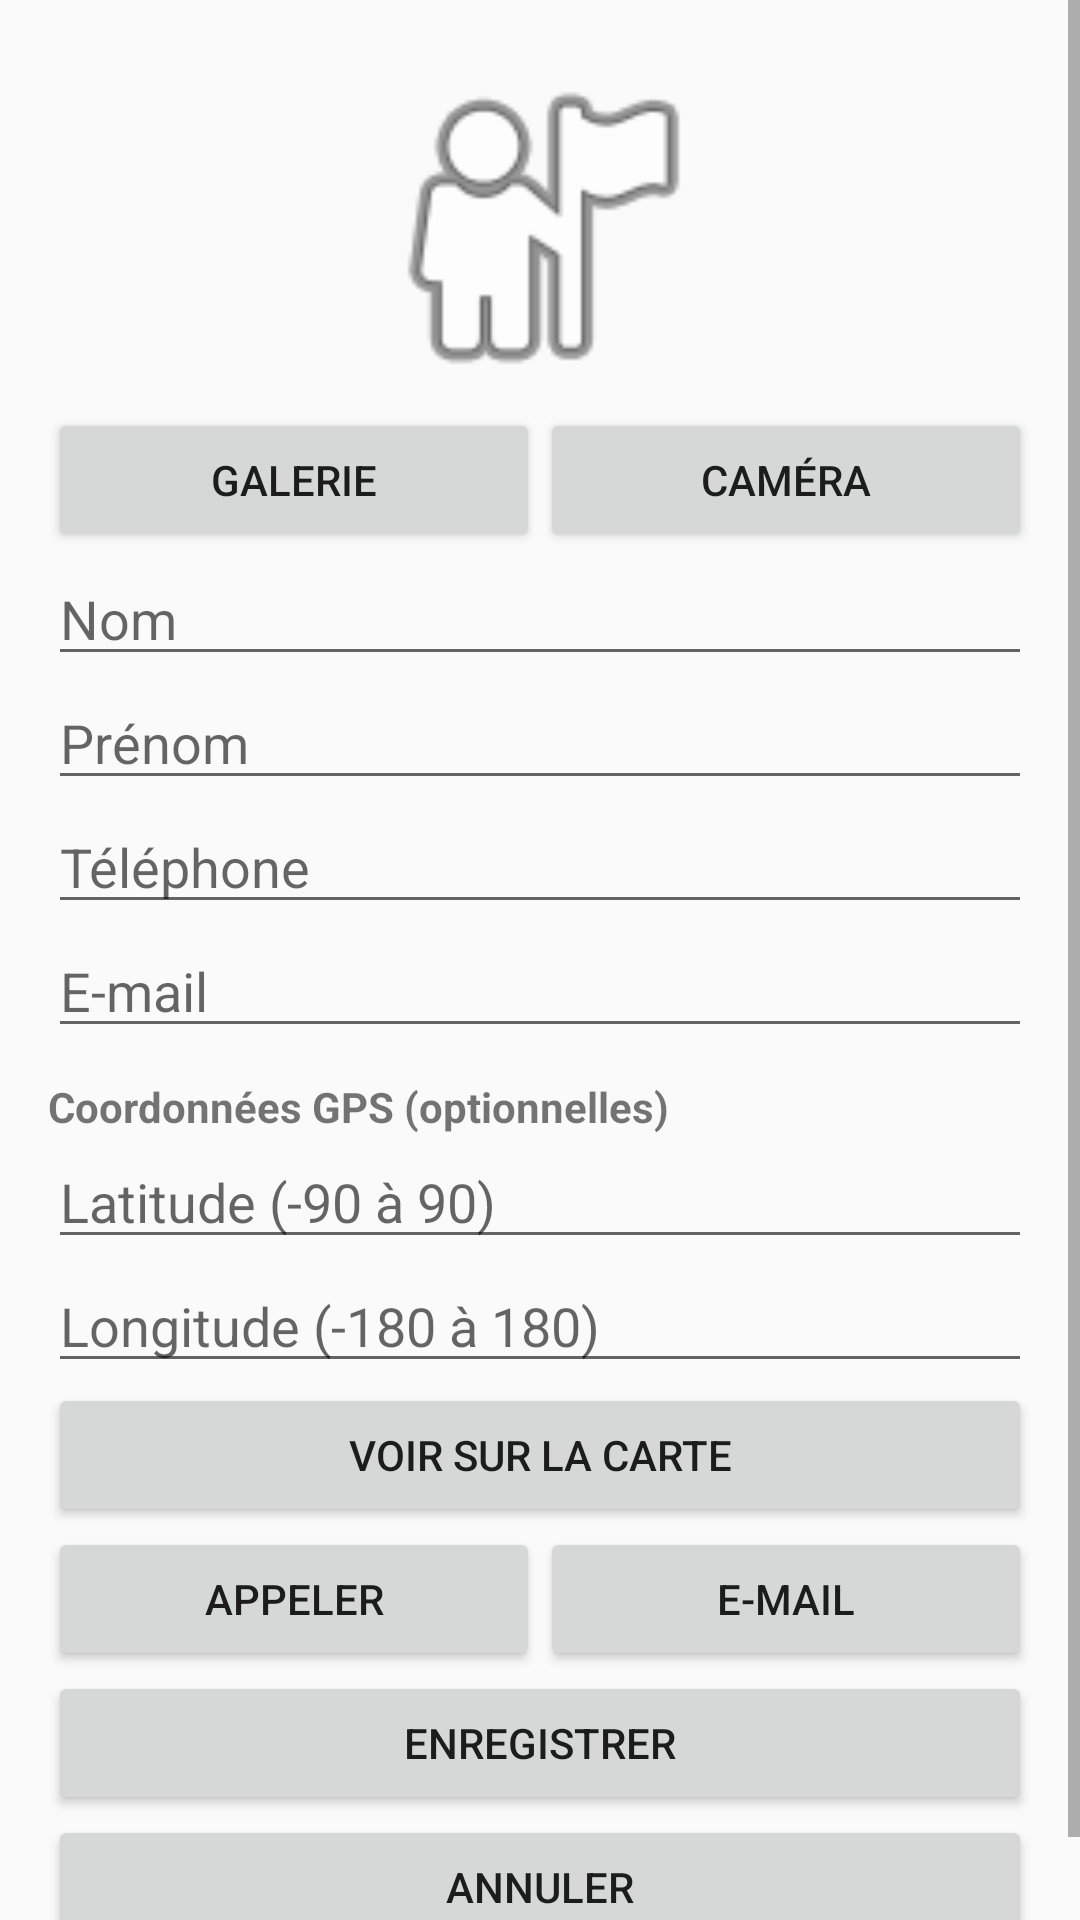

Named icons in this screenshot (1080 × 1920) and their centers, (x=x, y=y):
Photo contact: (x=543, y=228)
